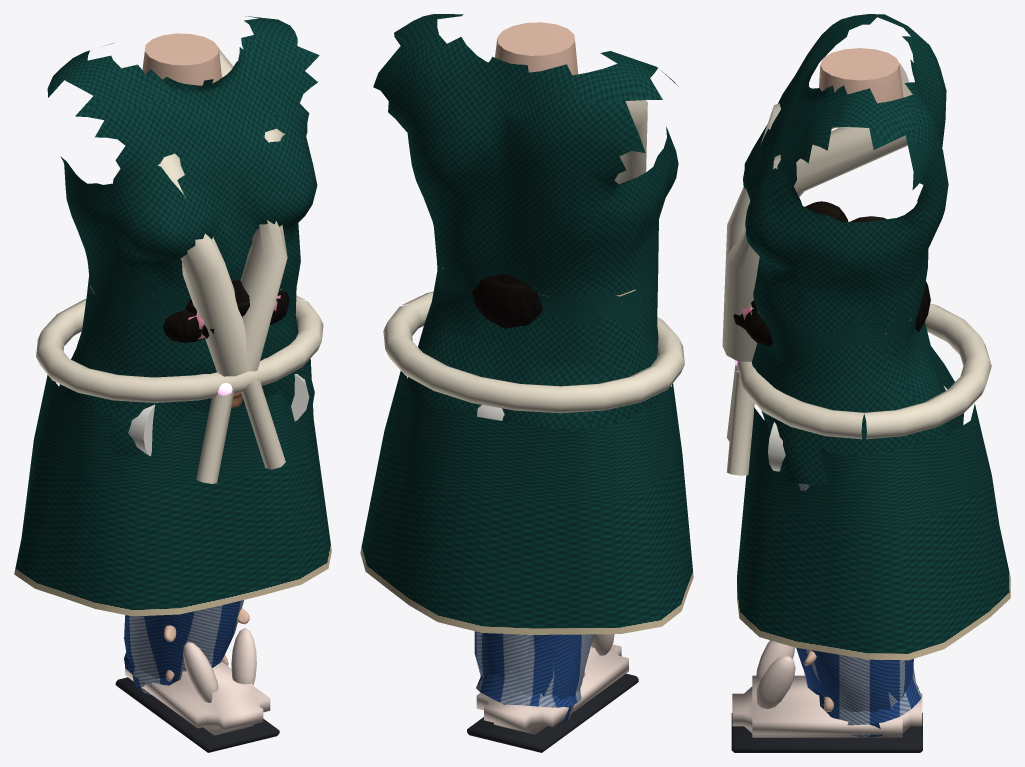
The picture shows the model from 3 angles, left to right: view 1: azimuth 30°, elevation 25°; view 2: azimuth 150°, elevation 25°; view 3: azimuth 270°, elevation 25°; orthographic projection. The views are drawn at different scales.
Parts seen in each view (by area): view 1: Torso, ShinL, ThighL, Head, ThighR; view 2: Torso, ShinL, ThighL, Head, ThighR; view 3: Torso, ShinL, ThighR, Head, ThighL.
Boxes of the visible parts, <box> form: Torso: <box>14,16,331,616</box>; ShinL: <box>115,628,279,752</box>; ThighL: <box>124,602,232,694</box>; Head: <box>128,280,309,456</box>; ThighR: <box>124,600,243,685</box>; Torso: <box>360,14,693,634</box>; ShinL: <box>467,634,638,752</box>; ThighL: <box>476,634,593,722</box>; Head: <box>472,274,542,420</box>; ThighR: <box>474,631,581,707</box>; Torso: <box>722,14,1010,660</box>; ShinL: <box>731,640,922,752</box>; ThighR: <box>796,647,918,737</box>; Head: <box>733,201,947,471</box>; ThighL: <box>804,666,922,725</box>.
Size of the model in its own units: 0.4834 by 1.06 by 0.4063.
Materials: 11 (4 with a texture image).
